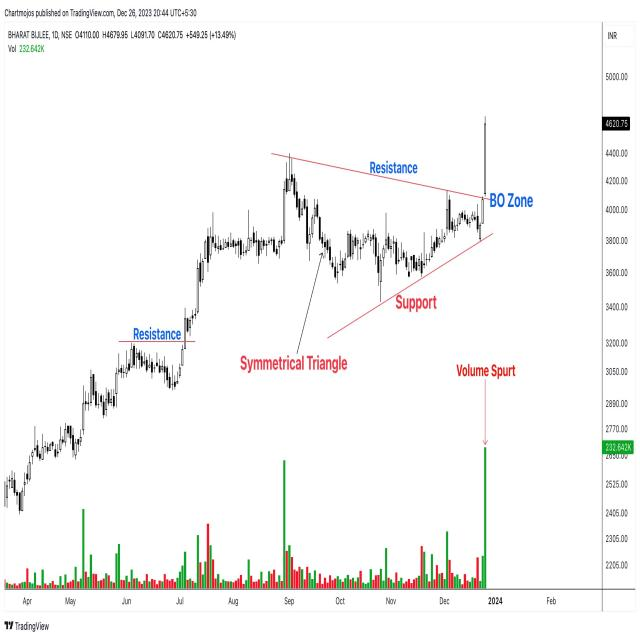Triangle: (265, 161, 520, 346)
